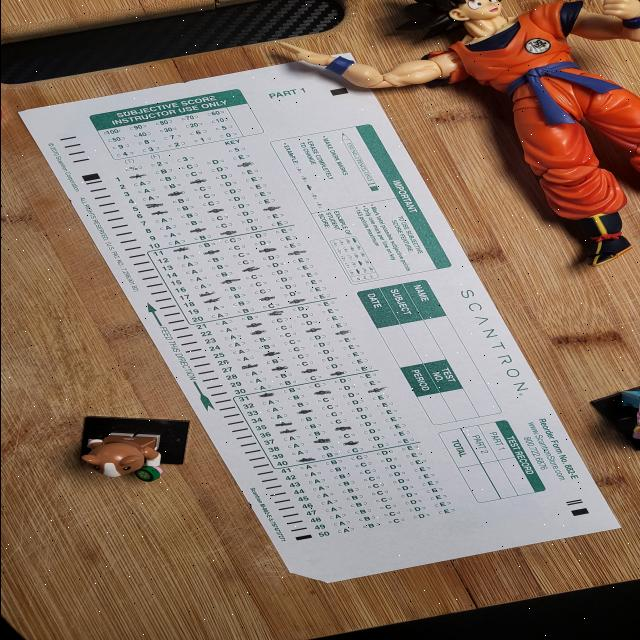scantron: (15, 51, 622, 584)
